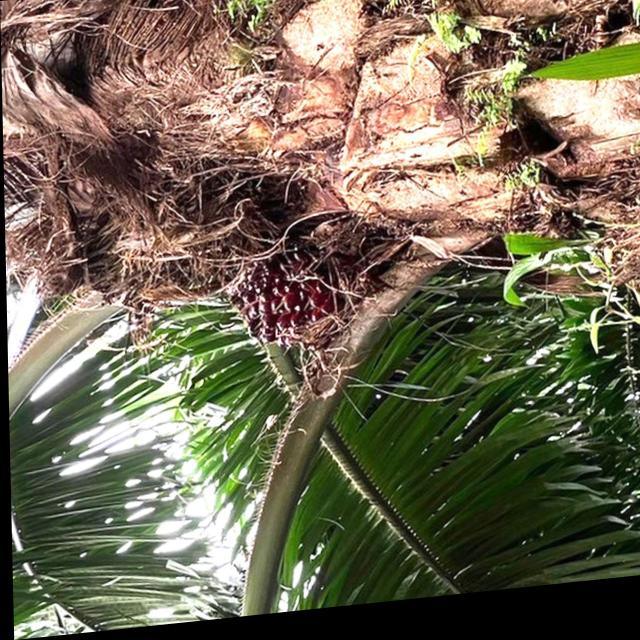ripe: (225, 258, 361, 357)
